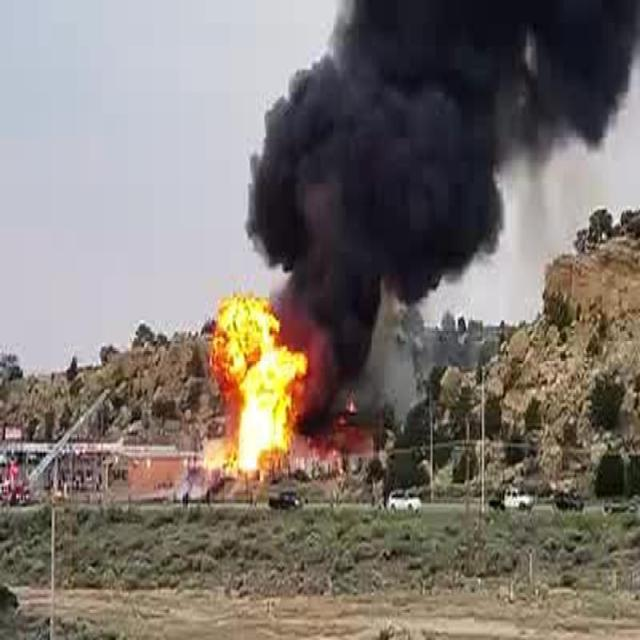Fire: (187, 258, 310, 493)
